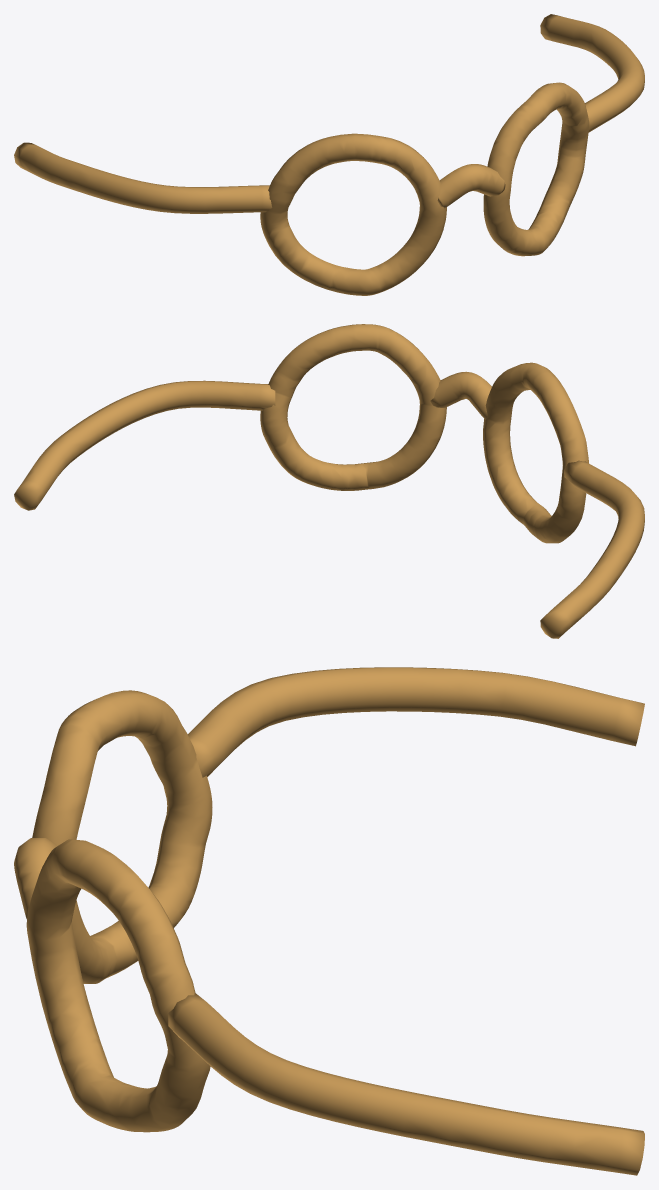
Rendered from 4HT-feminino.glb.
The picture shows the model from 3 angles, top to bottom: view 1: azimuth 30°, elevation 25°; view 2: azimuth 150°, elevation 25°; view 3: azimuth 270°, elevation 25°; orthographic projection. The views are drawn at different scales.
Visible parts, largest first — view 1: frame--1, frame-1, temple--1, temple-1, bridge; view 2: frame-1, frame--1, temple-1, temple--1, bridge; view 3: frame-1, temple-1, temple--1, frame--1, bridge.
Boxes of the visible parts, <box> form: frame--1: <box>260,133,446,295</box>; frame-1: <box>483,82,589,256</box>; temple--1: <box>14,142,272,213</box>; temple-1: <box>540,14,644,132</box>; bridge: <box>437,164,505,208</box>; frame-1: <box>260,324,446,490</box>; frame--1: <box>483,362,588,543</box>; temple-1: <box>14,380,275,510</box>; temple--1: <box>540,460,644,638</box>; bridge: <box>430,371,491,419</box>; frame-1: <box>26,839,210,1132</box>; temple-1: <box>168,993,644,1175</box>; temple--1: <box>188,667,644,777</box>; frame--1: <box>32,690,212,983</box>; bridge: <box>14,838,57,918</box>.
Bounding box in the file's own units: 0.036 × 0.00996 × 0.021.
